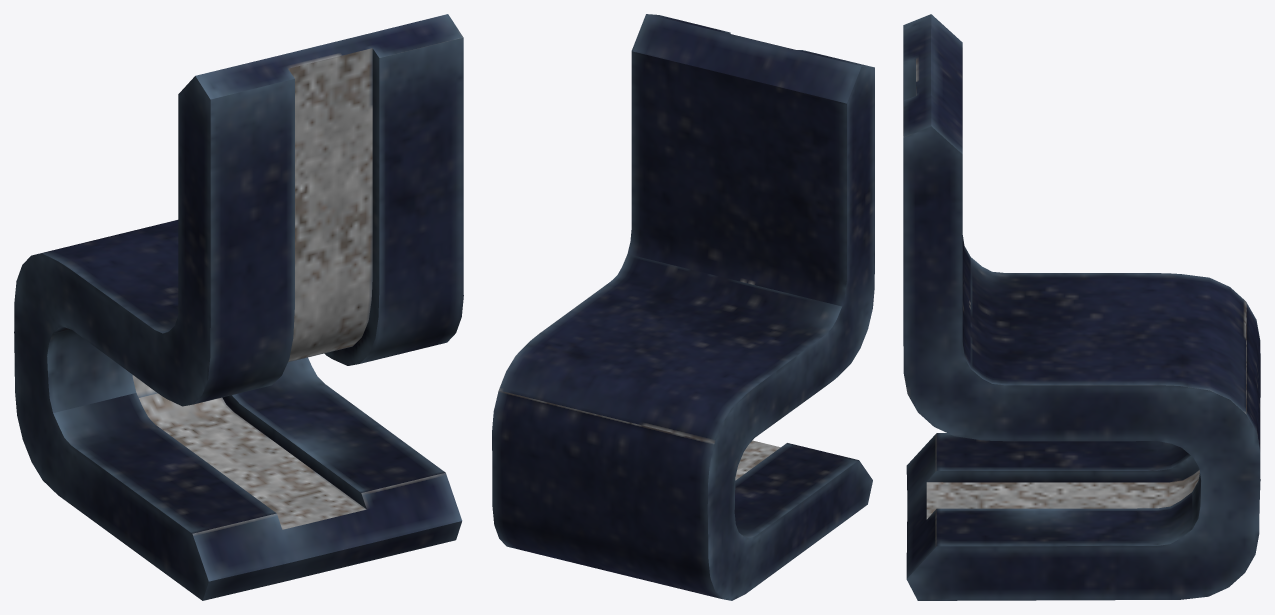
The model's file is chair.fbx.
The picture shows the model from 3 angles, left to right: view 1: azimuth 30°, elevation 25°; view 2: azimuth 150°, elevation 25°; view 3: azimuth 270°, elevation 25°; orthographic projection. The views are drawn at different scales.
Visible parts, largest first — view 1: Cube.017; view 2: Cube.017; view 3: Cube.017.
Part boxes in pixels (left/top/right/bottom): Cube.017: left=14, top=14, right=463, bottom=600; Cube.017: left=492, top=14, right=874, bottom=600; Cube.017: left=903, top=14, right=1260, bottom=600.
Bounding box in the file's own units: 129 × 251 × 172.
